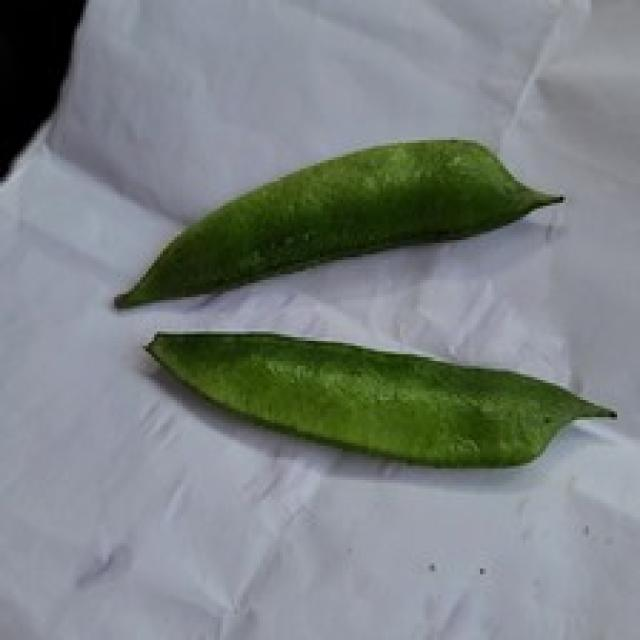Bean: (111, 134, 563, 309), (140, 326, 617, 468)
